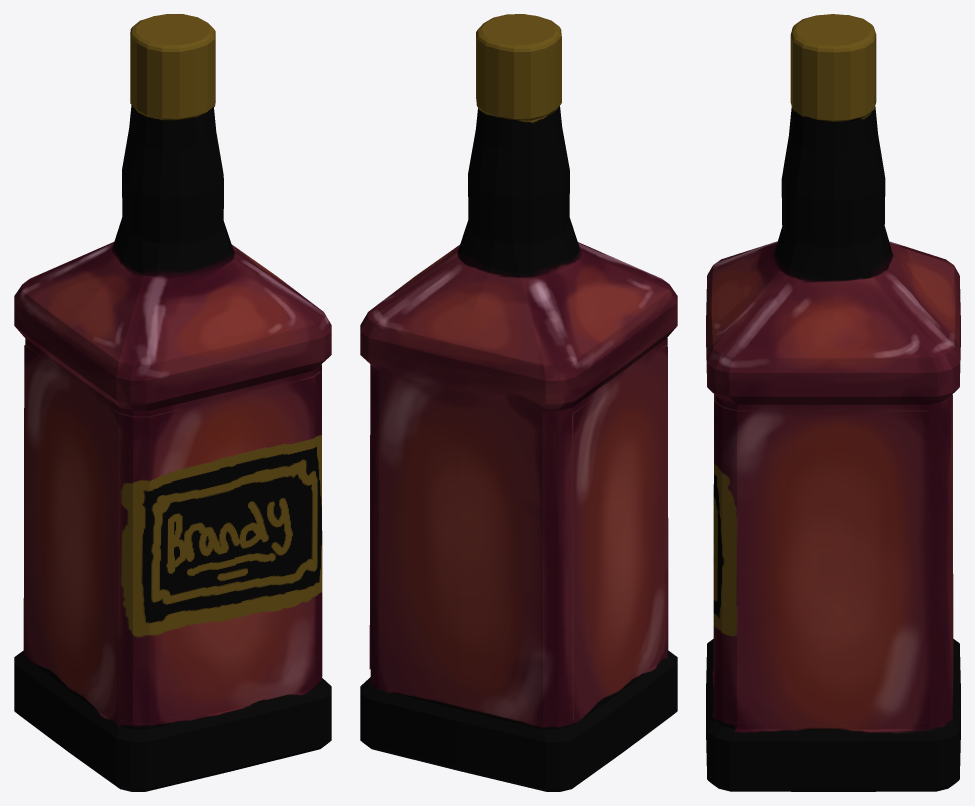
Rendered from Brandy.fbx.
The picture shows the model from 3 angles, left to right: view 1: azimuth 30°, elevation 25°; view 2: azimuth 150°, elevation 25°; view 3: azimuth 270°, elevation 25°; orthographic projection.
Visible parts, largest first — view 1: jd_bottle_lowpoly; view 2: jd_bottle_lowpoly; view 3: jd_bottle_lowpoly.
Part boxes in pixels (x1,y1,x2,y2): jd_bottle_lowpoly: [14, 14, 331, 791]; jd_bottle_lowpoly: [360, 14, 677, 791]; jd_bottle_lowpoly: [706, 14, 960, 791].
Bounding box in the file's own units: 65.06 × 200 × 65.06.
